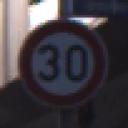speed_limit_30: (17, 19, 110, 110)
